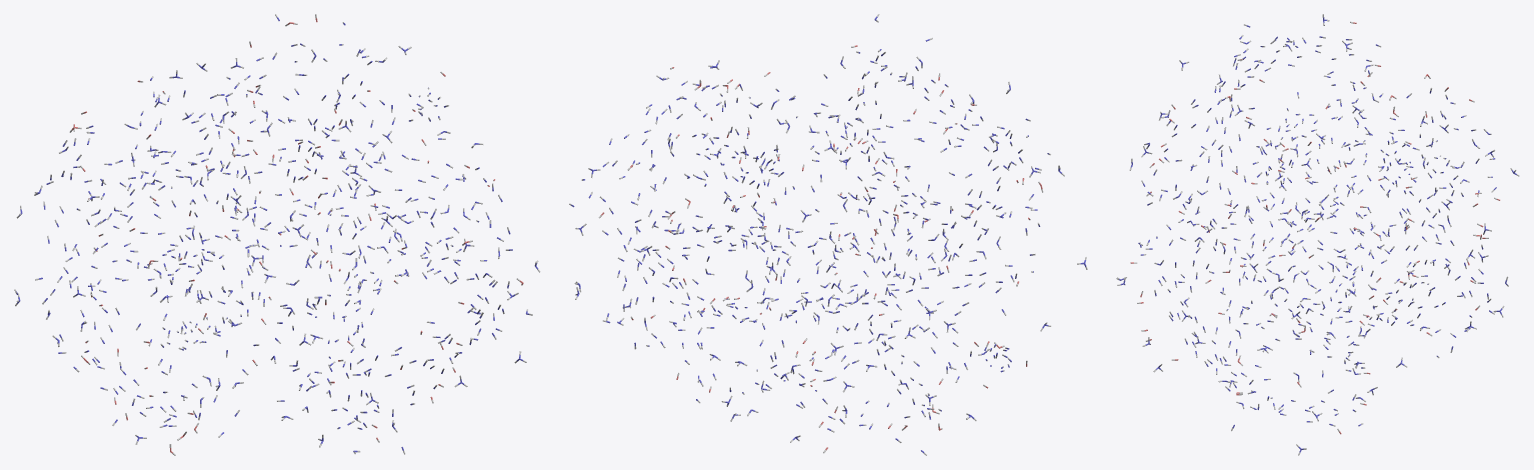
File: 4hhb__sticks__default__H.glb
3 renders of one model, left to right at view 1: azimuth 30°, elevation 25°; view 2: azimuth 150°, elevation 25°; view 3: azimuth 270°, elevation 25°, orthographic. The views are drawn at different scales.
Visible parts, largest first — view 1: Renderer Node; view 2: Renderer Node; view 3: Renderer Node.
Boxes of the visible parts, left/top/right/bottom form: Renderer Node: left=14, top=14, right=540, bottom=455; Renderer Node: left=569, top=14, right=1087, bottom=455; Renderer Node: left=1116, top=14, right=1519, bottom=455.
Bounding box in the file's own units: 68.23 × 58.21 × 58.76.
